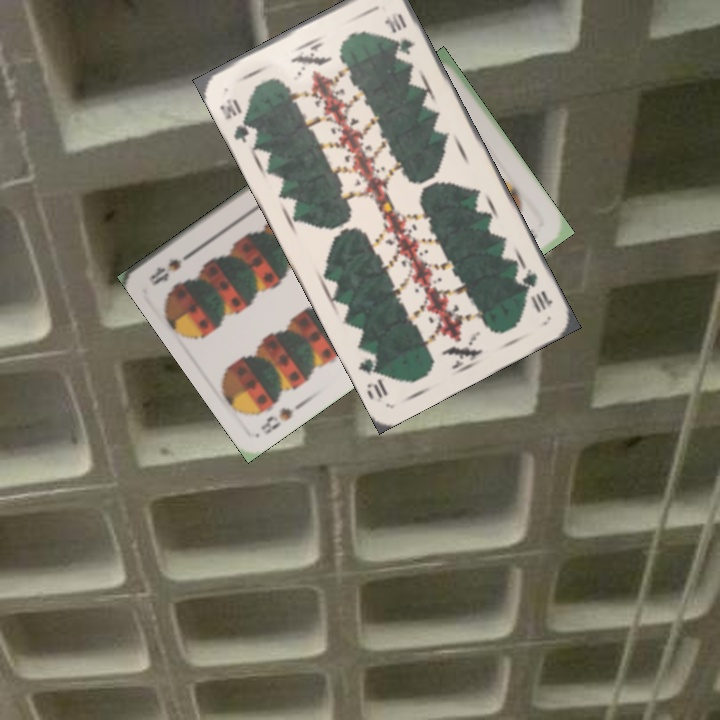G10: (517, 261, 556, 316), (215, 94, 256, 146)
S8: (256, 403, 296, 438)
